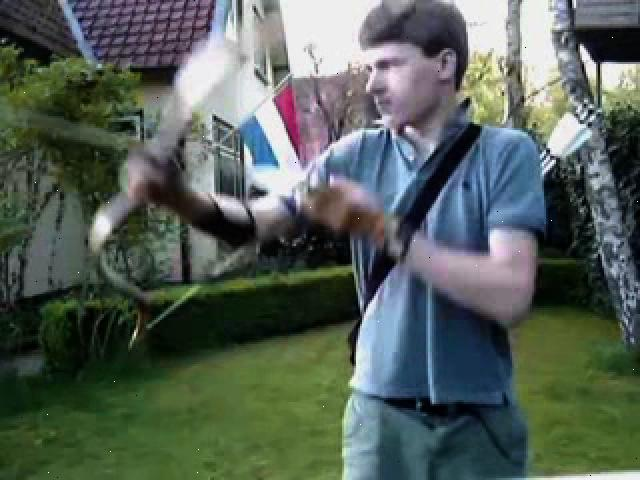P: (125, 4, 544, 476)
